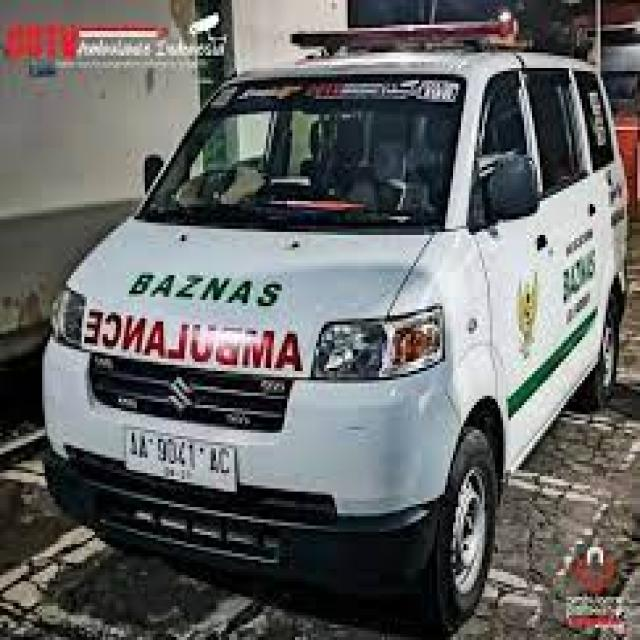ambulance: (41, 18, 629, 637)
